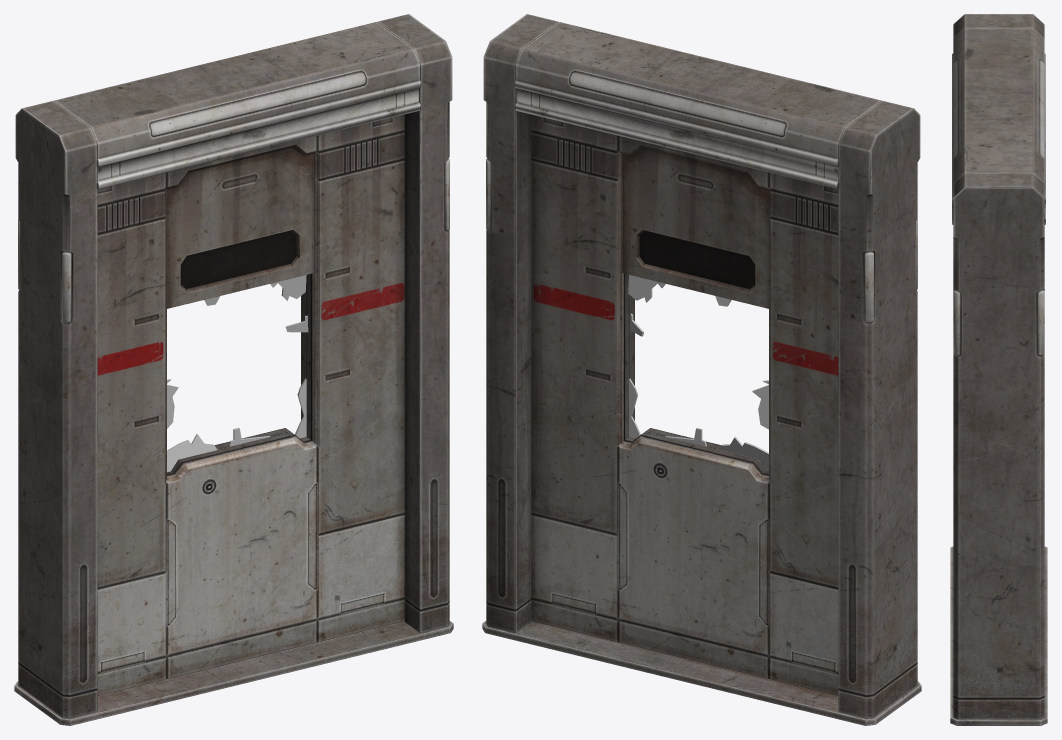
The model's file is slidedoor_theta_small_windowed_broken.dae.
3 renders of one model, left to right at view 1: azimuth 30°, elevation 25°; view 2: azimuth 150°, elevation 25°; view 3: azimuth 270°, elevation 25°, orthographic. The views are drawn at different scales.
Parts seen in each view (by area): view 1: door__2_, frame__2_, window; view 2: door__2_, frame__2_, window; view 3: frame__2_.
Part boxes in pixels (left/top/right/bottom): door__2_: left=97, top=114, right=404, bottom=695; frame__2_: left=14, top=14, right=453, bottom=725; window: left=167, top=275, right=308, bottom=472; door__2_: left=531, top=114, right=838, bottom=695; frame__2_: left=482, top=14, right=921, bottom=725; window: left=628, top=275, right=768, bottom=469; frame__2_: left=950, top=14, right=1047, bottom=725.
Bounding box in the file's own units: 2.28 × 3.25 × 0.5349.
